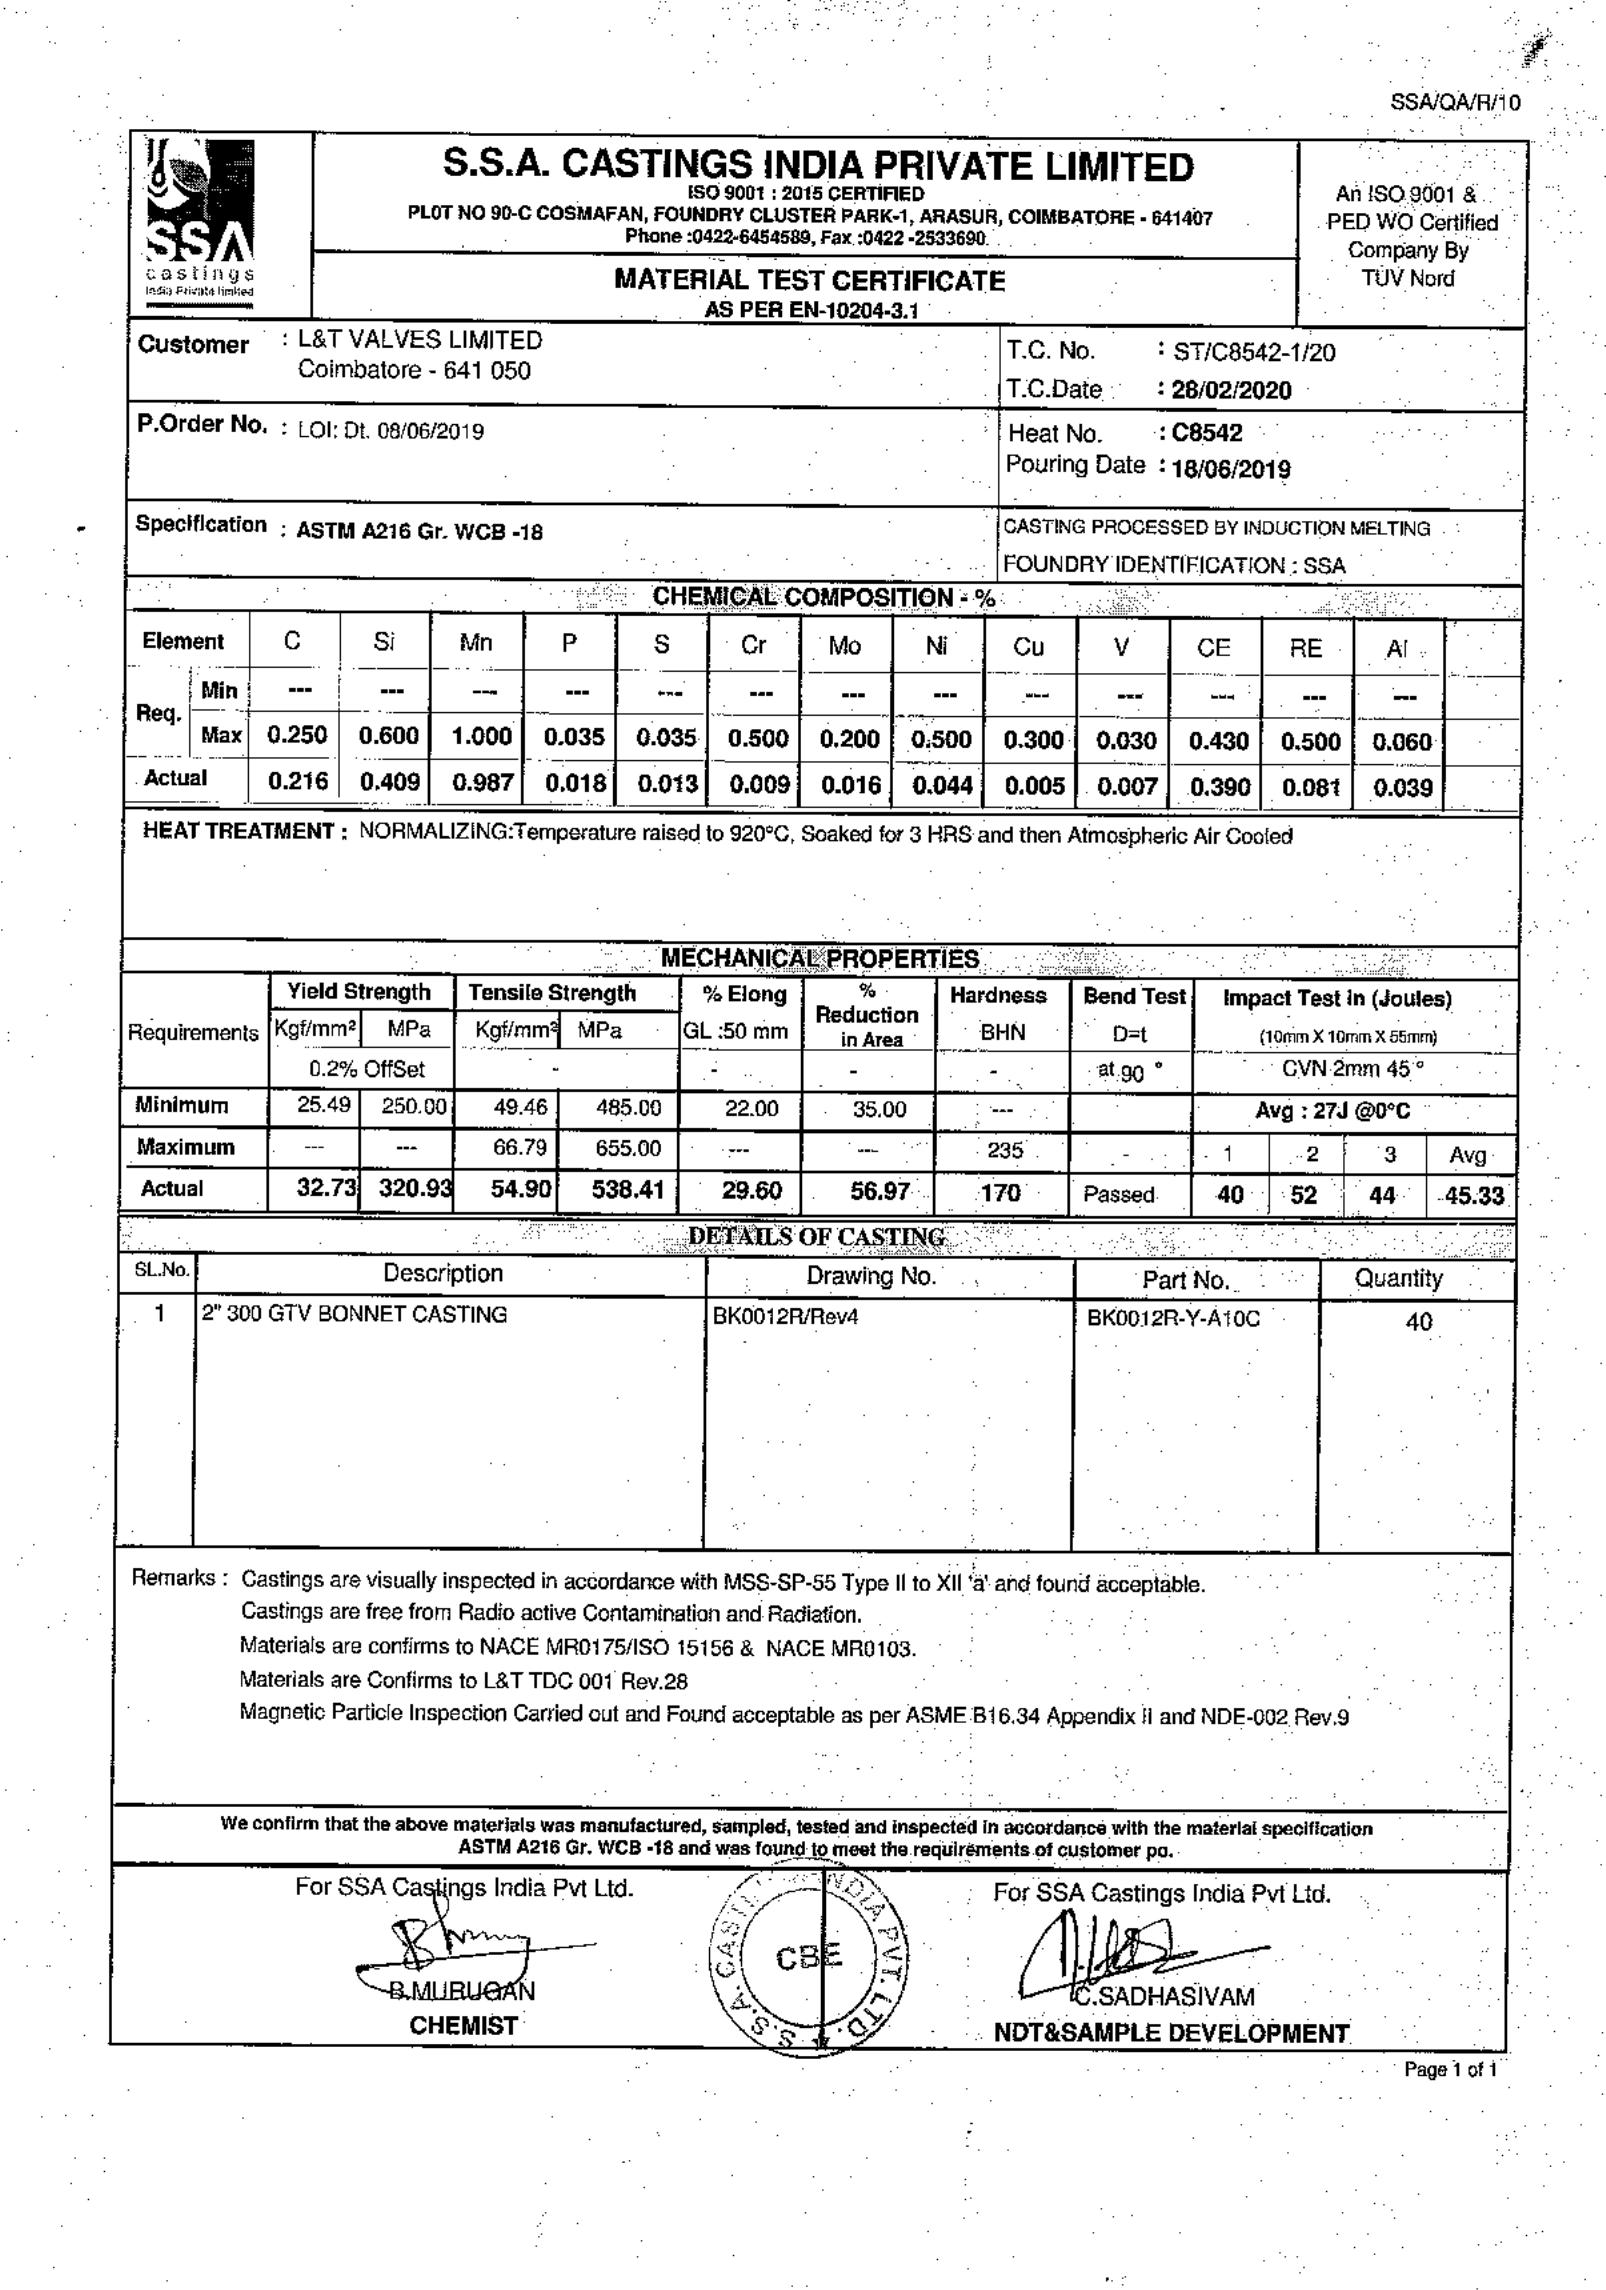cell: (1202, 988, 1474, 1044), (651, 940, 992, 978), (647, 581, 997, 614), (816, 983, 927, 1049), (1082, 987, 1188, 1048), (945, 987, 1056, 1042), (129, 1016, 261, 1061), (461, 980, 654, 1008), (277, 1053, 445, 1084), (282, 981, 438, 1013), (1248, 1101, 1420, 1129), (1274, 1060, 1427, 1088), (124, 1091, 242, 1122), (132, 623, 233, 660), (465, 1014, 560, 1053), (677, 1021, 795, 1051), (828, 1176, 927, 1209), (694, 981, 792, 1014), (136, 764, 221, 799), (571, 1180, 677, 1208), (1432, 1180, 1516, 1215), (701, 1175, 797, 1204), (130, 1136, 251, 1159), (1176, 769, 1253, 804), (1084, 626, 1159, 661), (1084, 726, 1166, 757), (345, 722, 430, 752), (1263, 726, 1348, 755), (811, 722, 886, 755), (277, 1173, 360, 1202), (1361, 727, 1439, 759), (252, 764, 331, 795), (565, 1020, 652, 1048), (437, 767, 519, 797), (626, 722, 699, 755), (277, 1014, 360, 1042), (1089, 1060, 1168, 1089), (992, 726, 1074, 753), (371, 1176, 452, 1204), (581, 1135, 668, 1161), (719, 722, 795, 752), (346, 767, 423, 797), (1084, 773, 1161, 802), (1176, 628, 1248, 660), (992, 773, 1072, 800), (531, 722, 606, 752), (719, 767, 788, 799), (804, 773, 887, 799), (472, 1175, 550, 1202), (960, 1178, 1049, 1202), (1268, 774, 1345, 802), (371, 1014, 442, 1044), (442, 626, 505, 660), (369, 1096, 447, 1122), (811, 630, 879, 660), (534, 767, 606, 795), (626, 766, 698, 793), (576, 1100, 663, 1122), (1074, 1182, 1161, 1204), (901, 726, 976, 752), (1361, 776, 1435, 802), (1362, 633, 1432, 661), (499, 1061, 600, 1081), (132, 1178, 216, 1201), (445, 722, 517, 748), (1176, 726, 1248, 752), (905, 769, 976, 795), (261, 623, 320, 654), (907, 632, 969, 661), (995, 630, 1058, 660), (1202, 1182, 1265, 1209), (1279, 1183, 1335, 1215), (477, 1096, 548, 1121), (842, 1100, 919, 1122), (538, 626, 604, 653), (724, 630, 781, 660), (129, 700, 190, 727), (259, 722, 329, 747), (632, 628, 694, 654), (706, 1101, 785, 1122), (480, 1138, 552, 1161), (353, 626, 411, 654), (1281, 632, 1333, 661), (1355, 1182, 1423, 1204), (292, 1091, 355, 1115), (259, 680, 331, 701), (351, 680, 423, 701), (1442, 1143, 1495, 1169), (969, 1140, 1034, 1161), (1194, 684, 1248, 708), (1373, 686, 1430, 708), (195, 679, 240, 705), (823, 684, 875, 706), (971, 1101, 1032, 1121), (200, 719, 242, 747), (710, 1142, 766, 1162), (1286, 1142, 1336, 1164), (1208, 1138, 1246, 1168), (454, 684, 508, 705), (640, 684, 694, 705), (724, 687, 788, 705), (1011, 684, 1060, 706), (967, 1061, 1016, 1084), (1282, 686, 1340, 705), (840, 1142, 898, 1161), (546, 680, 599, 701), (919, 684, 971, 705), (1107, 1143, 1159, 1164), (1373, 1143, 1418, 1164), (1105, 687, 1150, 706), (826, 1065, 880, 1081), (693, 1065, 745, 1081), (298, 1135, 336, 1155), (383, 1138, 426, 1154)
table: (122, 936, 1517, 1220), (127, 581, 1522, 814)
